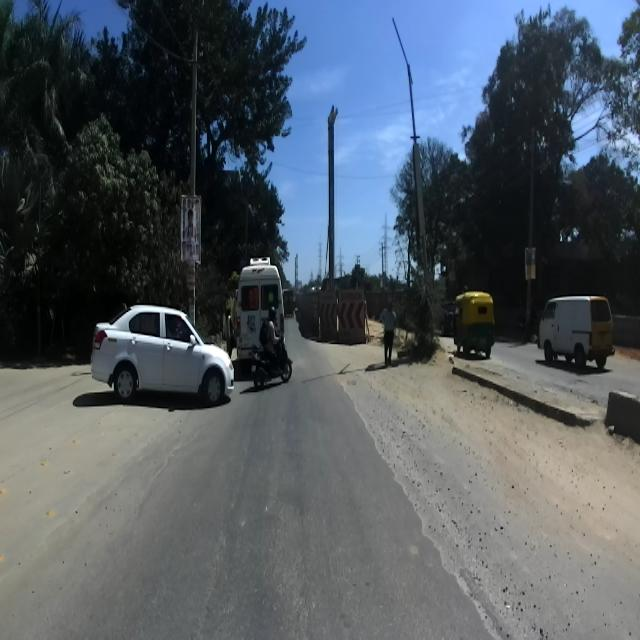car ahead at: (90, 292, 234, 415)
electric pole ahead at: (390, 25, 452, 322)
motorcycle ahead at: (252, 339, 296, 396)
